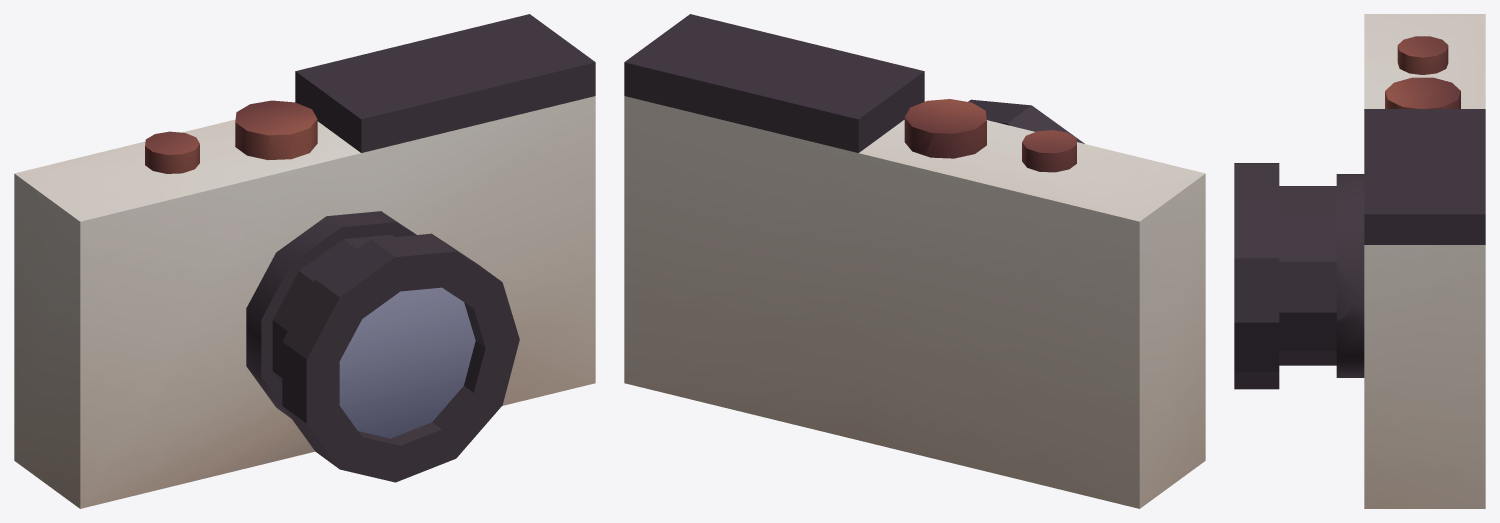
Rendered from M_appphoto_fragments.FBX.
3 renders of one model, left to right at view 1: azimuth 30°, elevation 25°; view 2: azimuth 150°, elevation 25°; view 3: azimuth 270°, elevation 25°, orthographic. The views are drawn at different scales.
Visible parts, largest first — view 1: Box005_Part_4, Box005_Part_5, Box005_Part_3, Box005_Part_1, Box005_Part_2; view 2: Box005_Part_5, Box005_Part_4, Box005_Part_2, Box005_Part_1, Box005_Part_3; view 3: Box005_Part_4, Box005_Part_3, Box005_Part_2, Box005_Part_5, Box005_Part_1.
Boxes of the visible parts, <box> form: Box005_Part_4: <box>247,14,595,281</box>; Box005_Part_5: <box>14,106,289,490</box>; Box005_Part_3: <box>282,233,519,482</box>; Box005_Part_1: <box>56,166,376,508</box>; Box005_Part_2: <box>113,280,595,500</box>; Box005_Part_5: <box>842,109,1205,508</box>; Box005_Part_4: <box>624,14,989,316</box>; Box005_Part_2: <box>624,314,1028,481</box>; Box005_Part_1: <box>826,121,1205,477</box>; Box005_Part_3: <box>968,99,1084,143</box>; Box005_Part_4: <box>1314,84,1485,447</box>; Box005_Part_3: <box>1234,163,1354,389</box>; Box005_Part_2: <box>1261,302,1485,508</box>; Box005_Part_5: <box>1364,14,1485,108</box>; Box005_Part_1: <box>1273,103,1370,206</box>.
Size of the model in its own units: 23.34 by 10.72 by 13.88.
